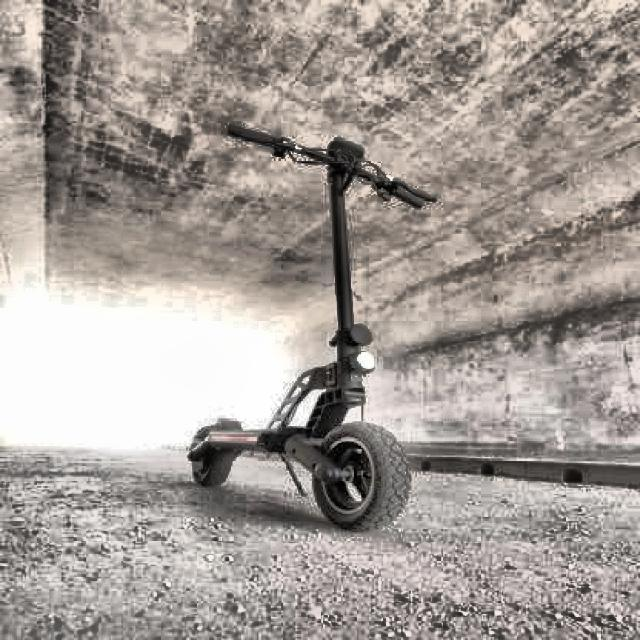bike: (186, 120, 441, 533)
